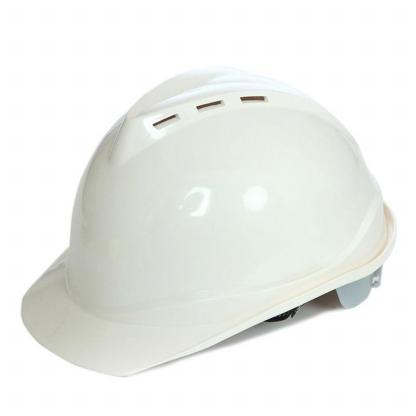helmet: (20, 52, 397, 378)
